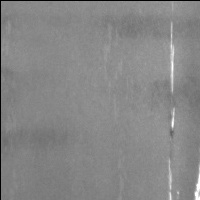scratches: (165, 15, 181, 140), (164, 154, 178, 200)
